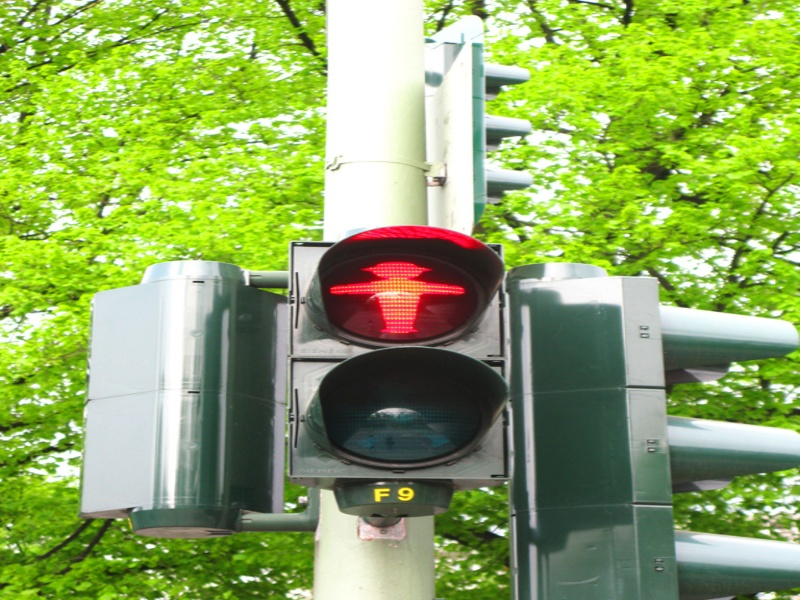pedestrian_crossing_red: (307, 223, 509, 352)
